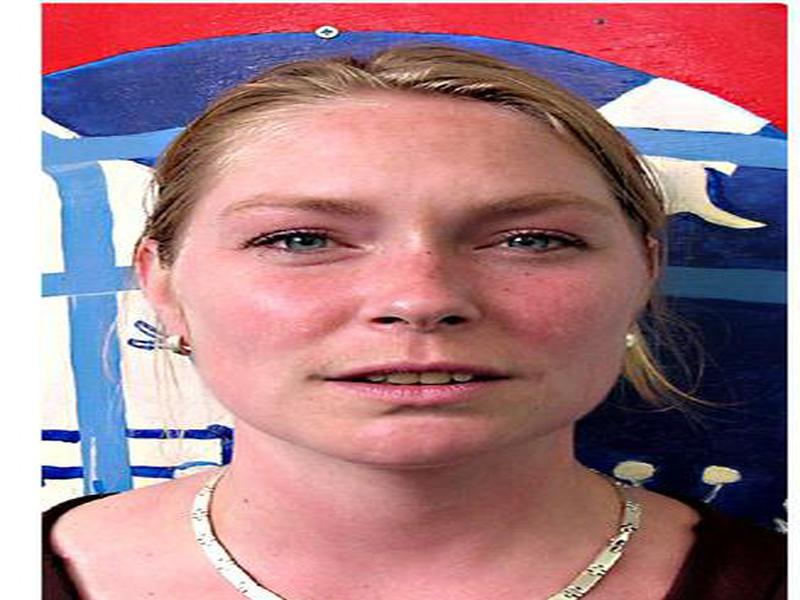without_mask: (180, 157, 638, 472)
